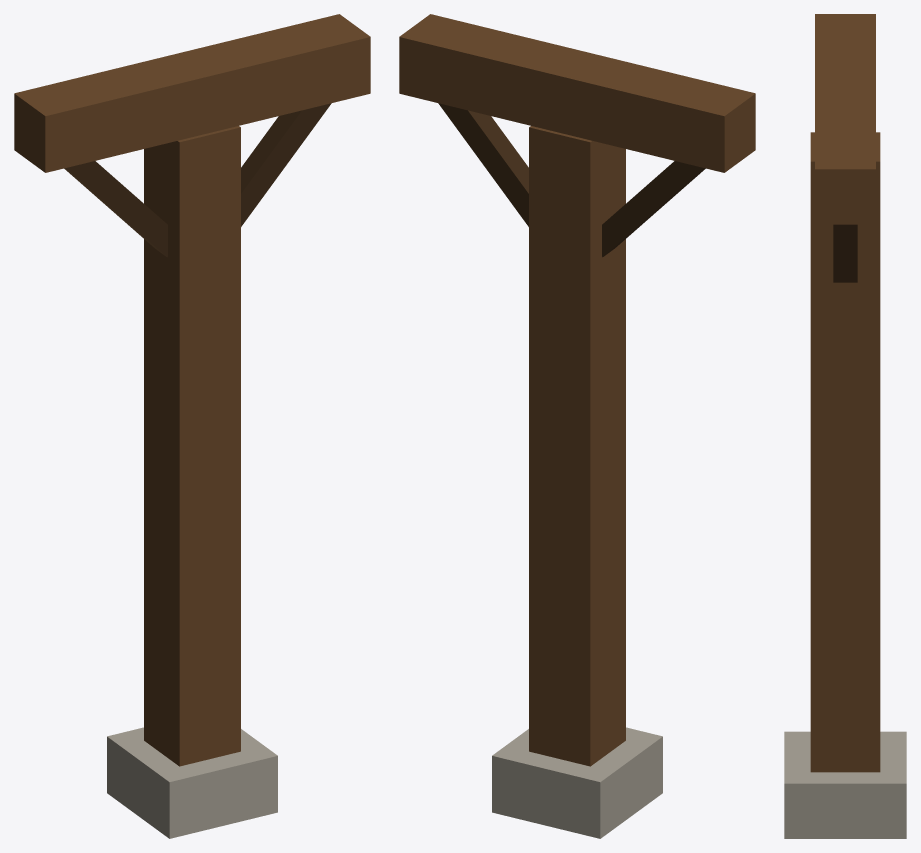
File: mv_timber_post.glb
The picture shows the model from 3 angles, left to right: view 1: azimuth 30°, elevation 25°; view 2: azimuth 150°, elevation 25°; view 3: azimuth 270°, elevation 25°; orthographic projection. The views are drawn at different scales.
Visible parts, largest first — view 1: mv_timber_post; view 2: mv_timber_post; view 3: mv_timber_post.
Part boxes in pixels (x1=…): mv_timber_post: x1=14, y1=14, x2=370, y2=838; mv_timber_post: x1=399, y1=14, x2=755, y2=838; mv_timber_post: x1=784, y1=14, x2=906, y2=838.
Bounding box in the file's own units: 1.8 × 3.9 × 0.6.
